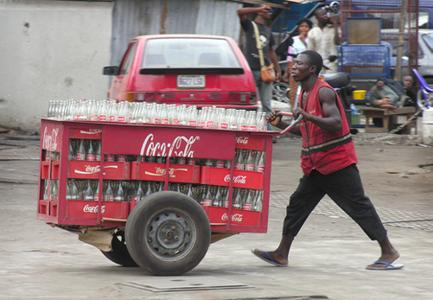person: (251, 48, 401, 272)
